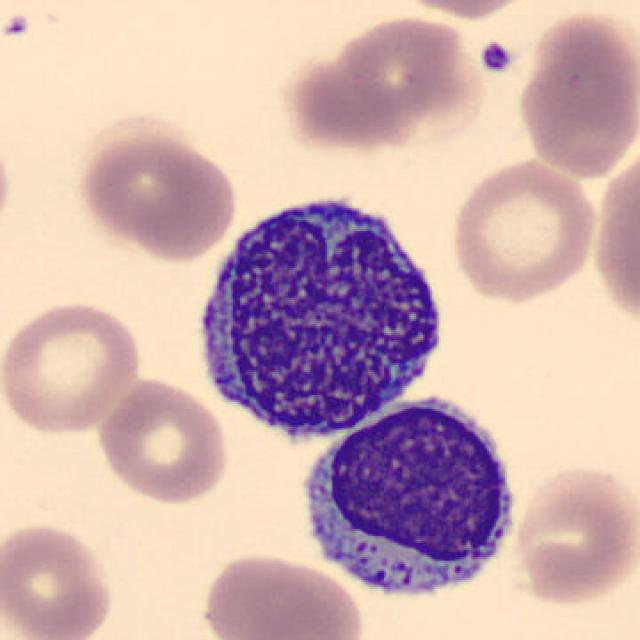Monocyte: (185, 178, 457, 451), (290, 386, 528, 612)
Platelets: (477, 37, 518, 78)
RBC: (279, 10, 487, 157), (73, 116, 240, 264), (446, 155, 601, 305), (512, 3, 638, 182), (0, 296, 146, 437), (508, 460, 638, 608), (93, 374, 231, 506), (199, 550, 365, 640), (0, 518, 119, 640), (588, 138, 638, 333), (380, 0, 542, 21), (0, 120, 14, 248)
